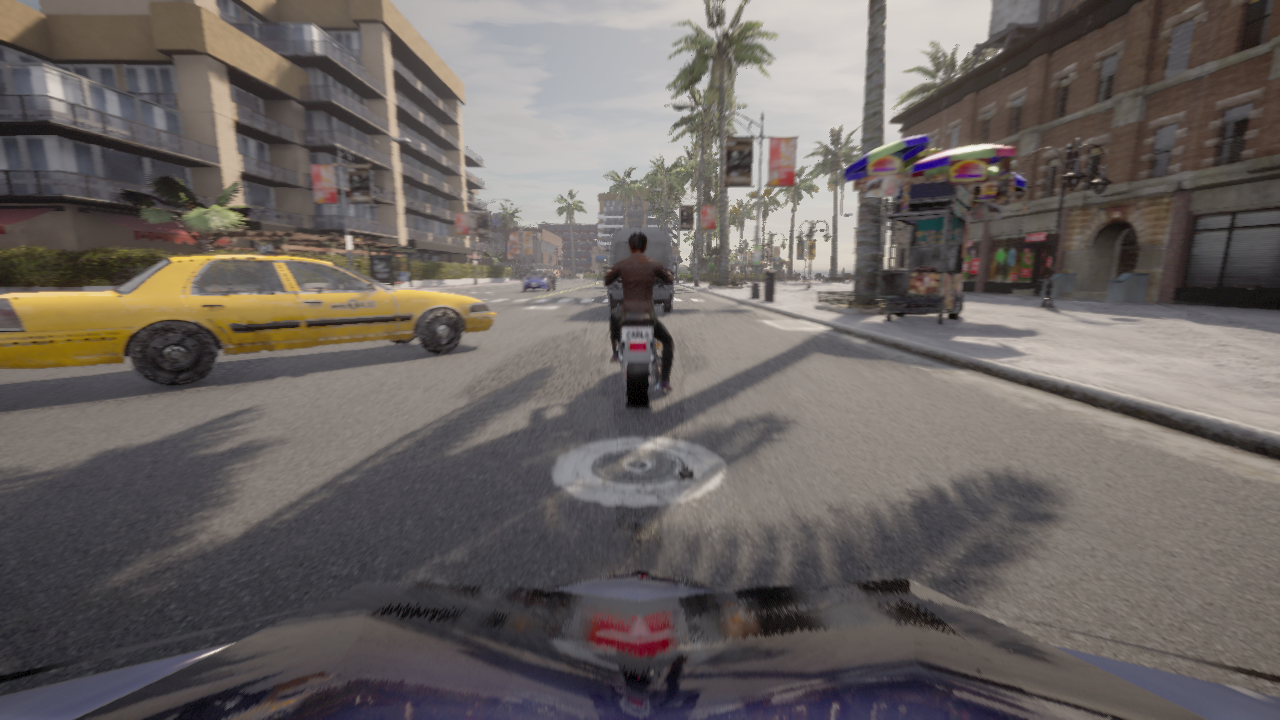cyclist: (0, 569, 1279, 719), (0, 244, 496, 385), (603, 267, 673, 407), (608, 228, 673, 312), (522, 269, 556, 291), (735, 274, 736, 280)
